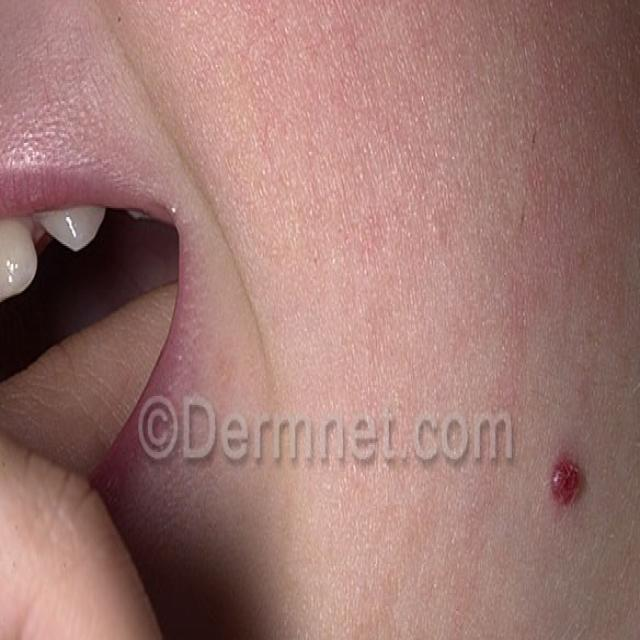Vascular Tumors: (541, 451, 589, 516)
